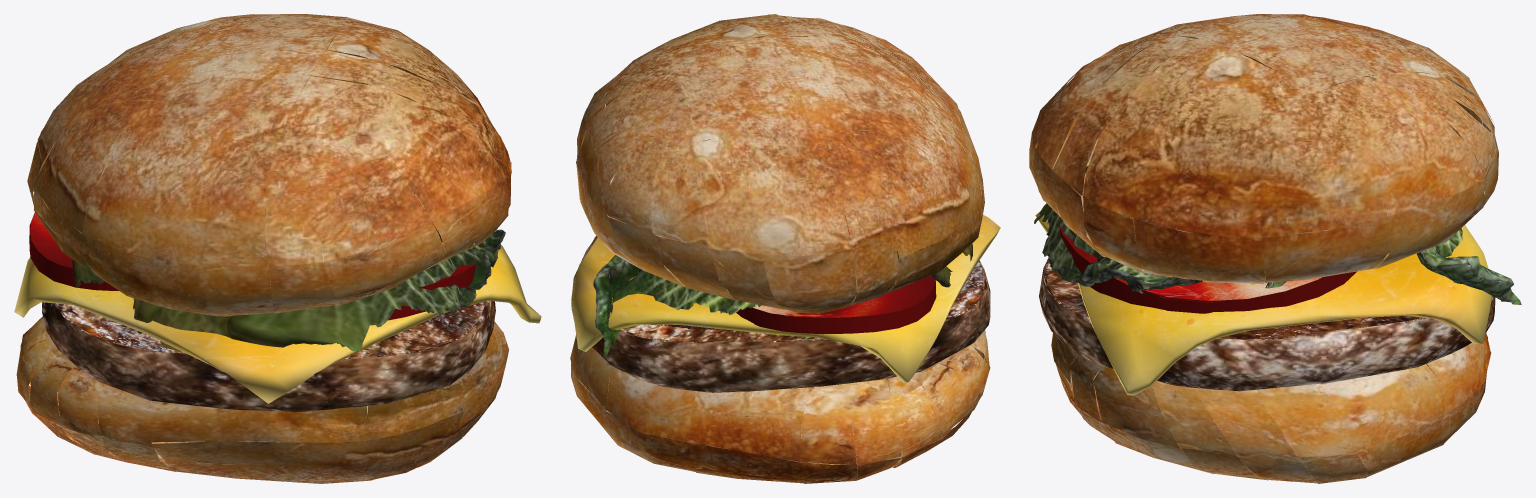
The model's file is hamburguesa.glb.
3 renders of one model, left to right at view 1: azimuth 30°, elevation 25°; view 2: azimuth 150°, elevation 25°; view 3: azimuth 270°, elevation 25°, orthographic. The views are drawn at different scales.
Visible parts, largest first — view 1: Bread2A_Bread2A_0; view 2: Bread2A_Bread2A_0; view 3: Bread2A_Bread2A_0.
Part boxes in pixels (x1,y1,x2,y2): Bread2A_Bread2A_0: (14,14,541,483); Bread2A_Bread2A_0: (570,14,1000,483); Bread2A_Bread2A_0: (1029,14,1521,483).
Bounding box in the file's own units: 27.96 × 25.31 × 29.54.
Materials: 7 (6 with a texture image).
